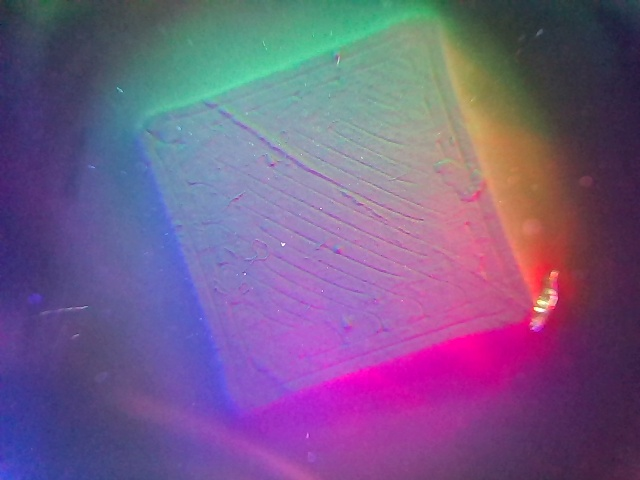contact: (141, 21, 528, 405)
